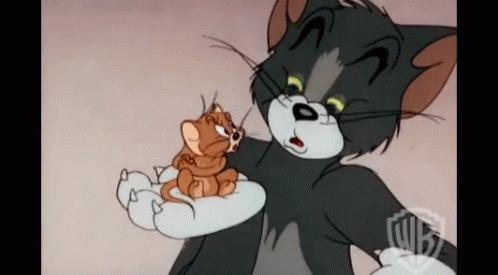jerry: (160, 91, 248, 219)
